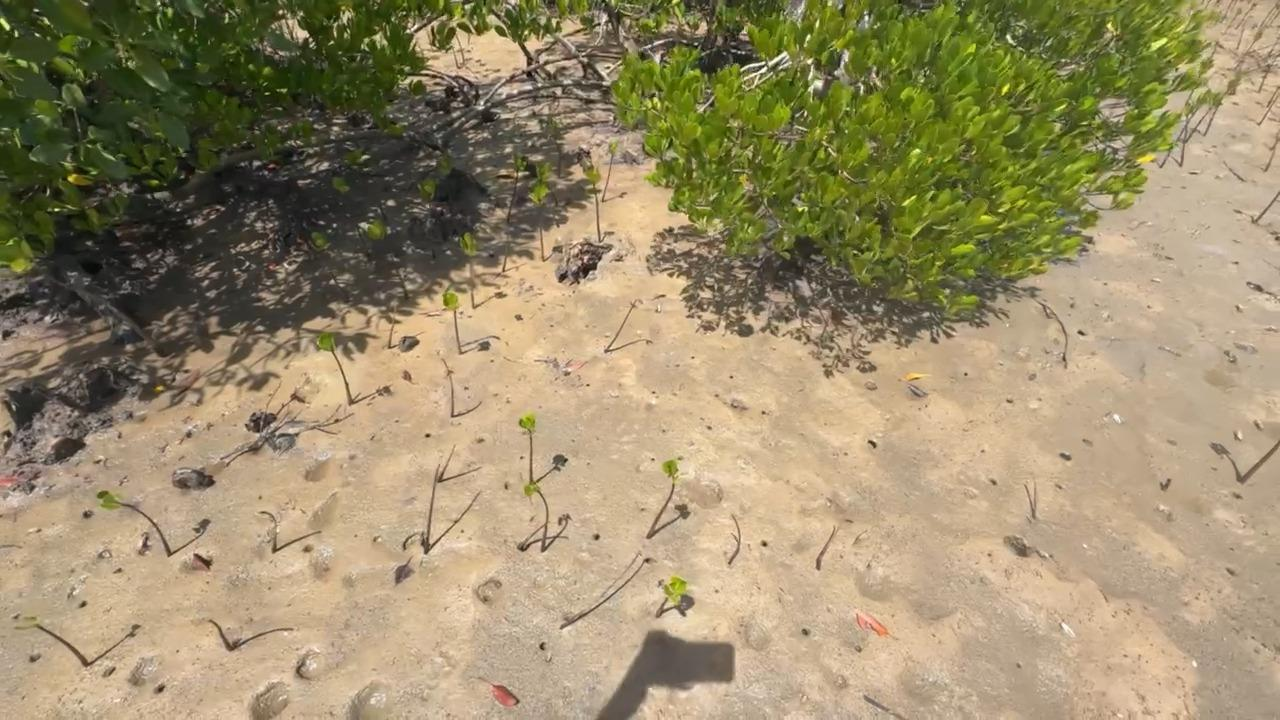Tree: (559, 557, 657, 630), (96, 489, 170, 556), (10, 613, 88, 666), (357, 218, 408, 298), (1161, 89, 1213, 167), (343, 147, 386, 217), (331, 176, 367, 253), (316, 331, 353, 404), (647, 459, 680, 539), (309, 233, 347, 301), (527, 159, 552, 261), (604, 298, 642, 352), (1205, 77, 1239, 136), (1186, 92, 1223, 144), (1239, 437, 1280, 483), (581, 160, 603, 242), (525, 482, 550, 552), (422, 464, 440, 555), (459, 231, 478, 308), (507, 152, 528, 221), (654, 576, 687, 618), (419, 179, 437, 255), (540, 116, 562, 177), (443, 292, 462, 354), (520, 412, 536, 485), (600, 139, 618, 202), (1257, 53, 1280, 92), (1254, 189, 1280, 223), (1181, 100, 1194, 166), (816, 525, 835, 569), (522, 534, 570, 551), (1258, 88, 1280, 125), (441, 358, 454, 417), (259, 511, 277, 553), (207, 619, 232, 649), (1263, 135, 1280, 173), (728, 515, 741, 564), (387, 301, 398, 348), (1259, 3, 1280, 27), (1236, 3, 1256, 28), (1242, 31, 1262, 54), (1024, 483, 1036, 519), (502, 228, 511, 272), (1226, 8, 1241, 34), (1266, 85, 1280, 106)
